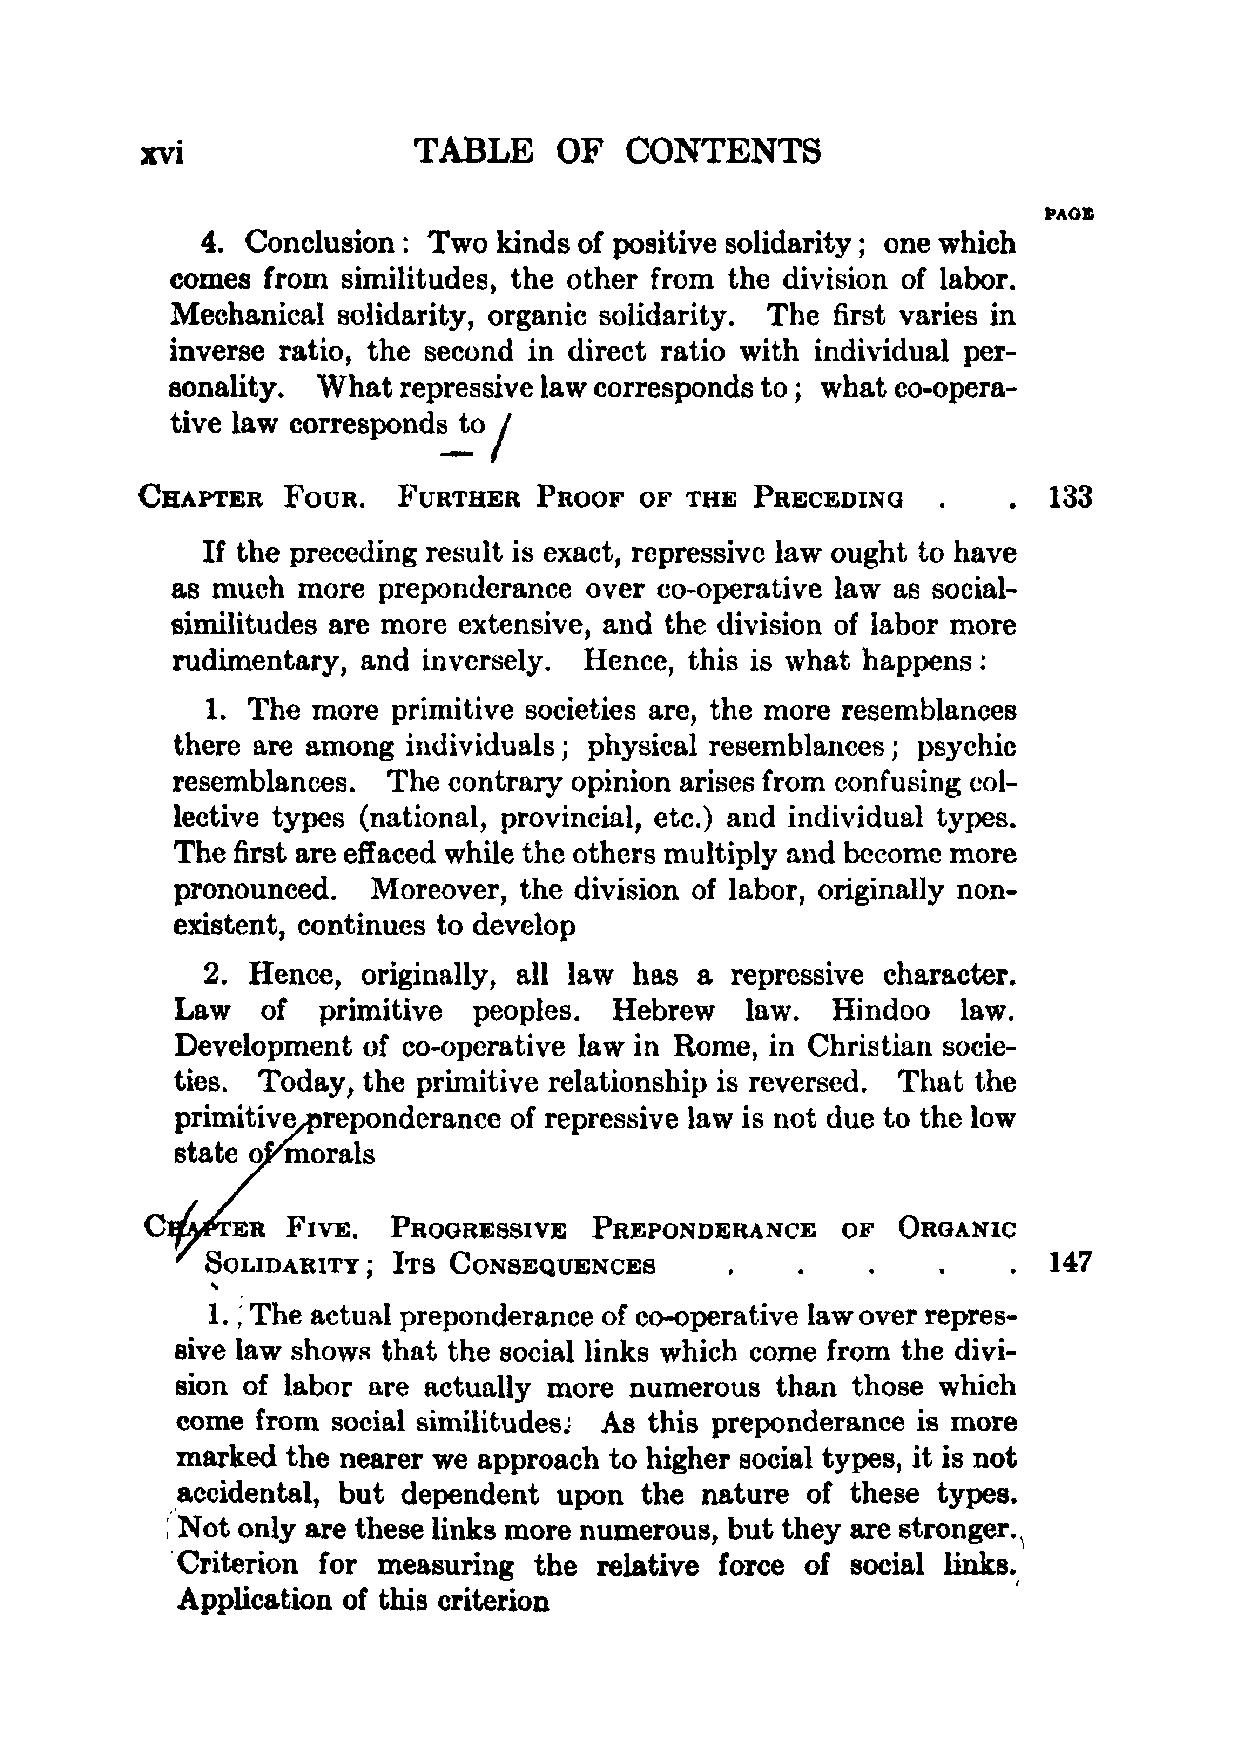TOC_chapter: (134, 480, 1023, 1178), (134, 1209, 1019, 1618), (164, 212, 1027, 446)
TOC_pagenumber: (1036, 471, 1106, 514), (1040, 1239, 1090, 1282)
chapter: (403, 127, 823, 172)
